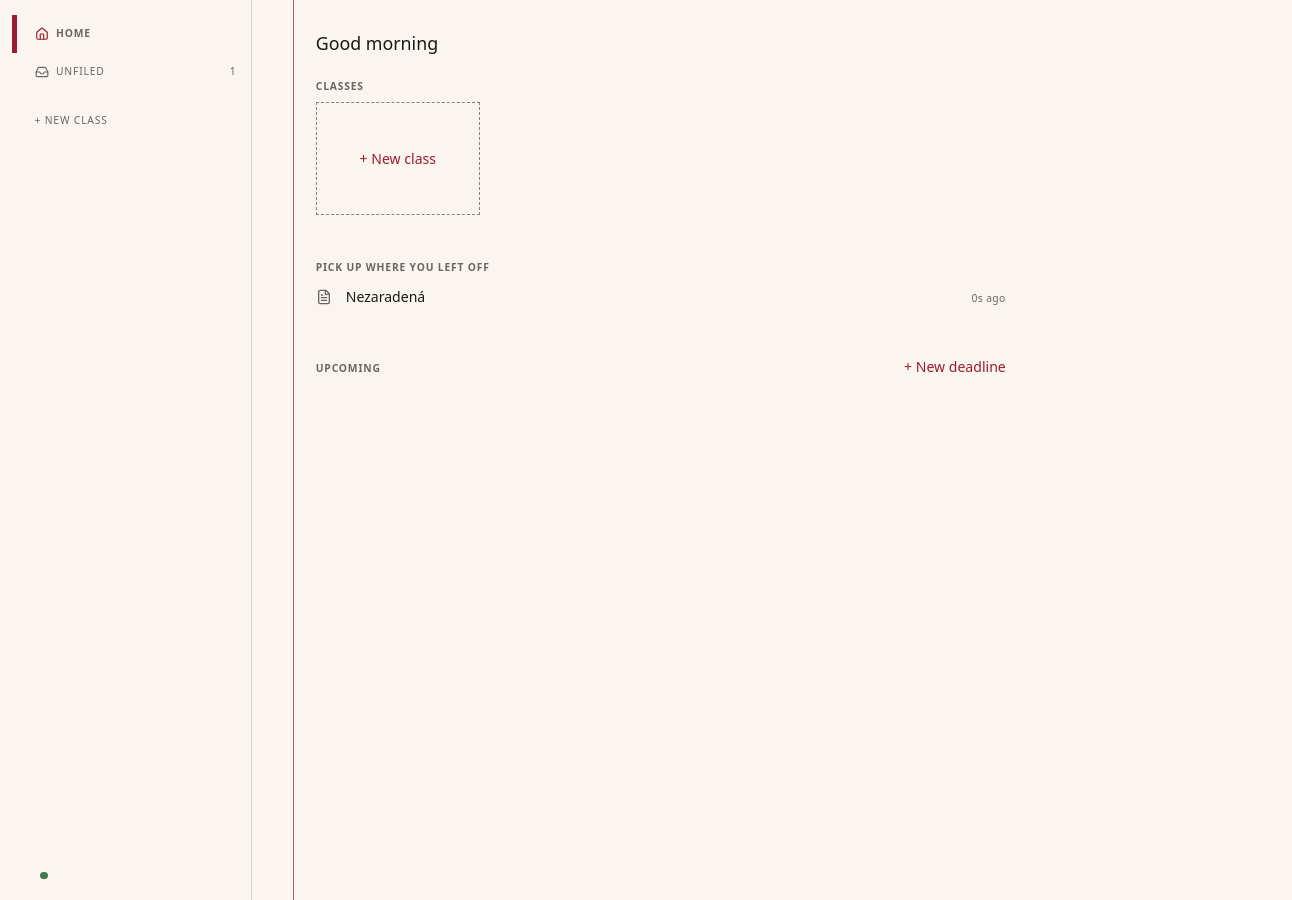
it: App class rail › says what a class is when there are none, and offers the same row
This screenshot has width=1292, height=900.
Click the button "Unfiled 1" at (132,72), box [12,53,251,91]
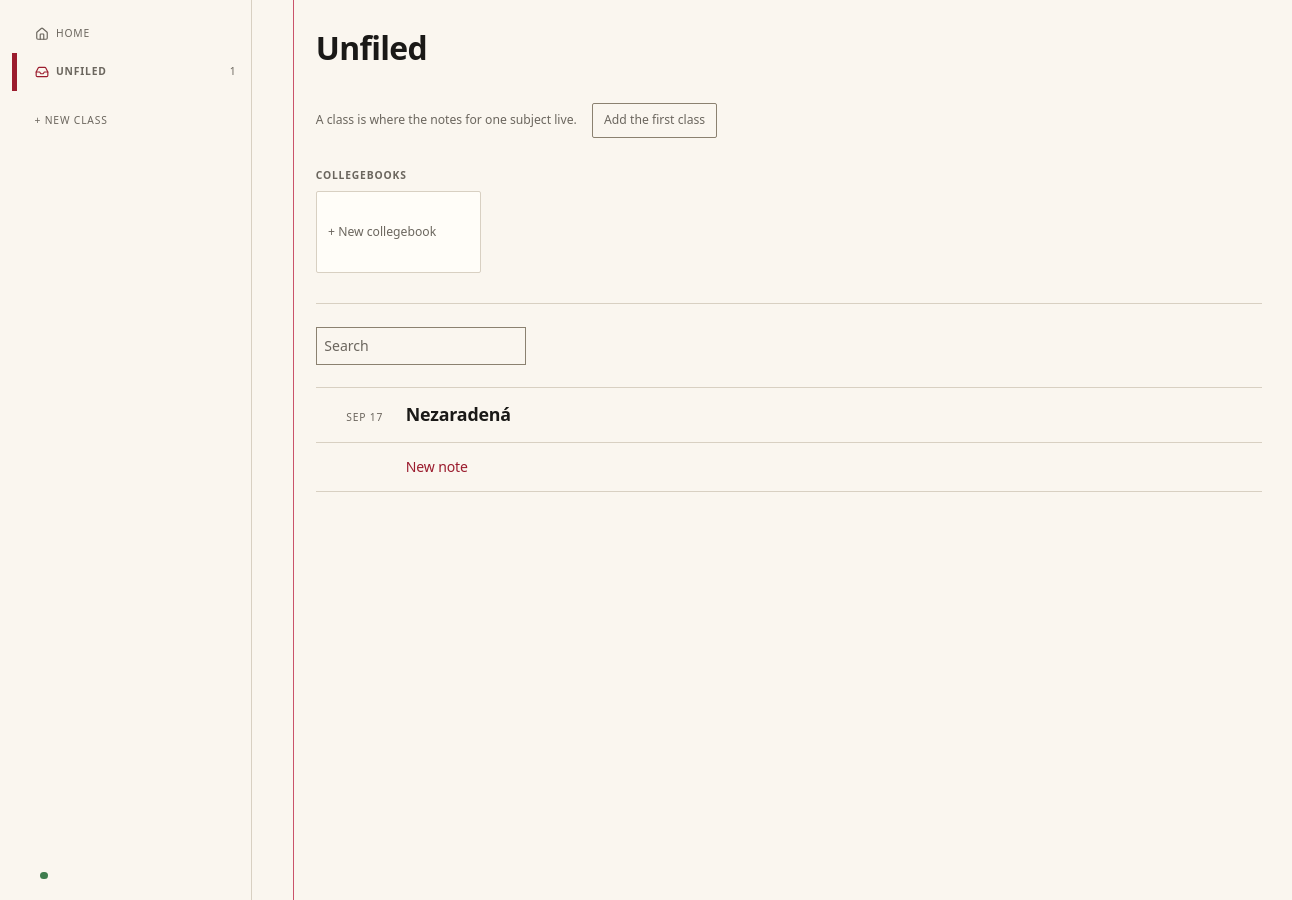
Check: the text "A class is where the notes for one subject live." is shown, box [316,111,577,128]
Click the button "Add the first class" at (655,120), box [592,103,717,138]
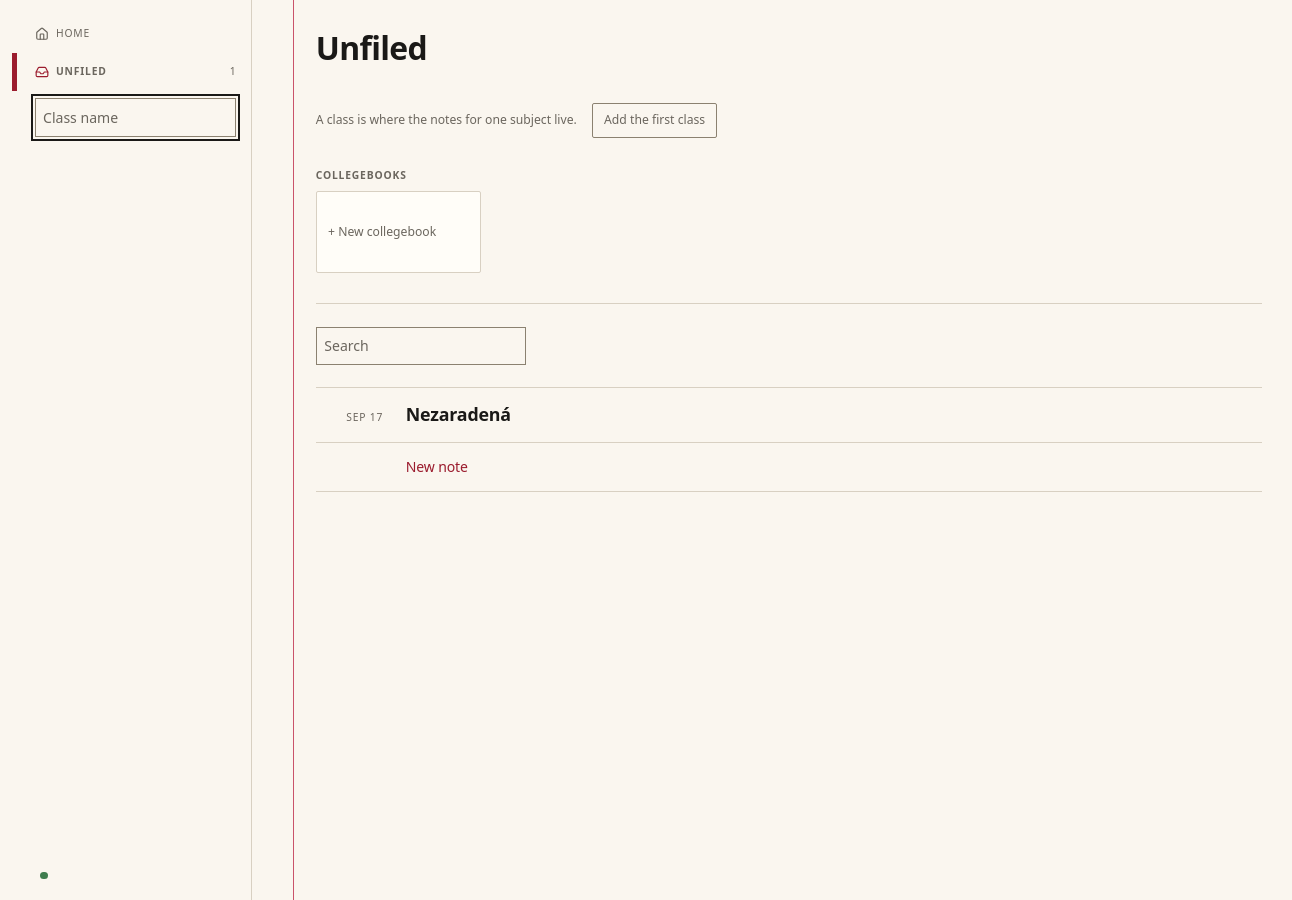
Check: the field labelled "Class name" is shown, box [34,98,236,136]
